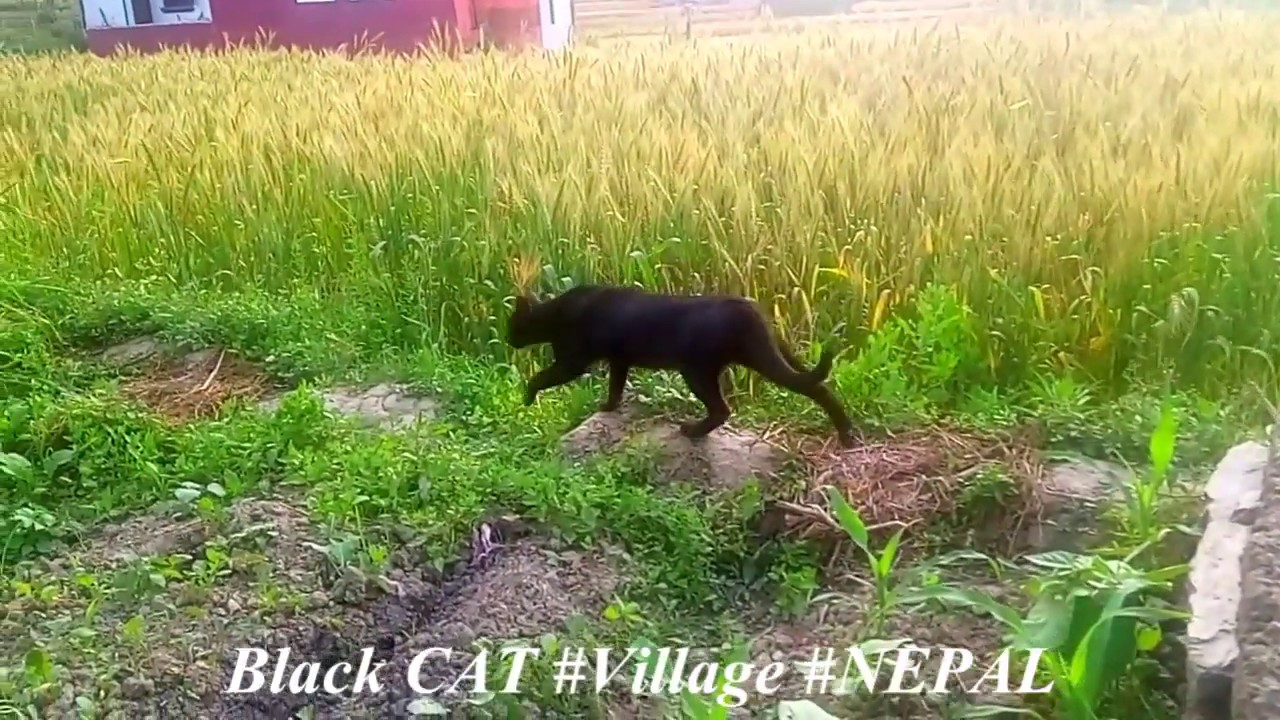cat: (472, 267, 868, 461)
